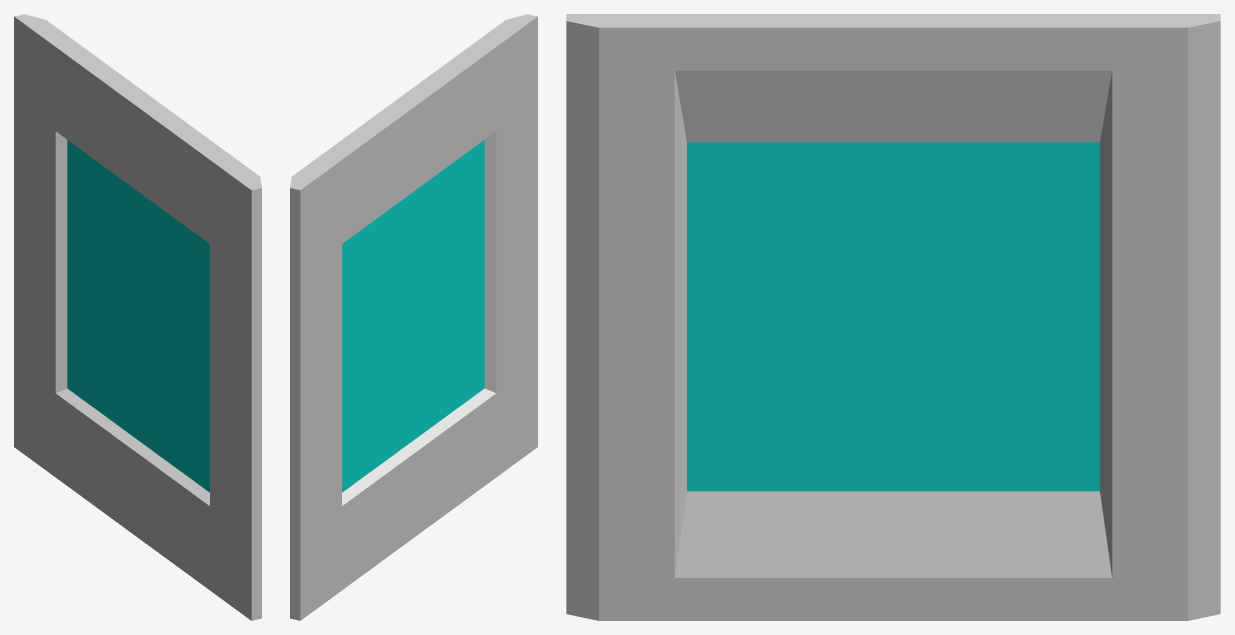
File: wood_wall_FBX.fbx
3 views of the same model, side by side, from view 1: azimuth 30°, elevation 25°; view 2: azimuth 150°, elevation 25°; view 3: azimuth 270°, elevation 25° (orthographic). The views are drawn at different scales.
Visible parts, largest first — view 1: Cube; view 2: Cube; view 3: Cube.
Part boxes in pixels (left/top/right/bottom): Cube: left=14, top=14, right=261, bottom=620; Cube: left=290, top=14, right=537, bottom=620; Cube: left=566, top=14, right=1220, bottom=620.
Size of the model in its own units: 10 by 200 by 200.
